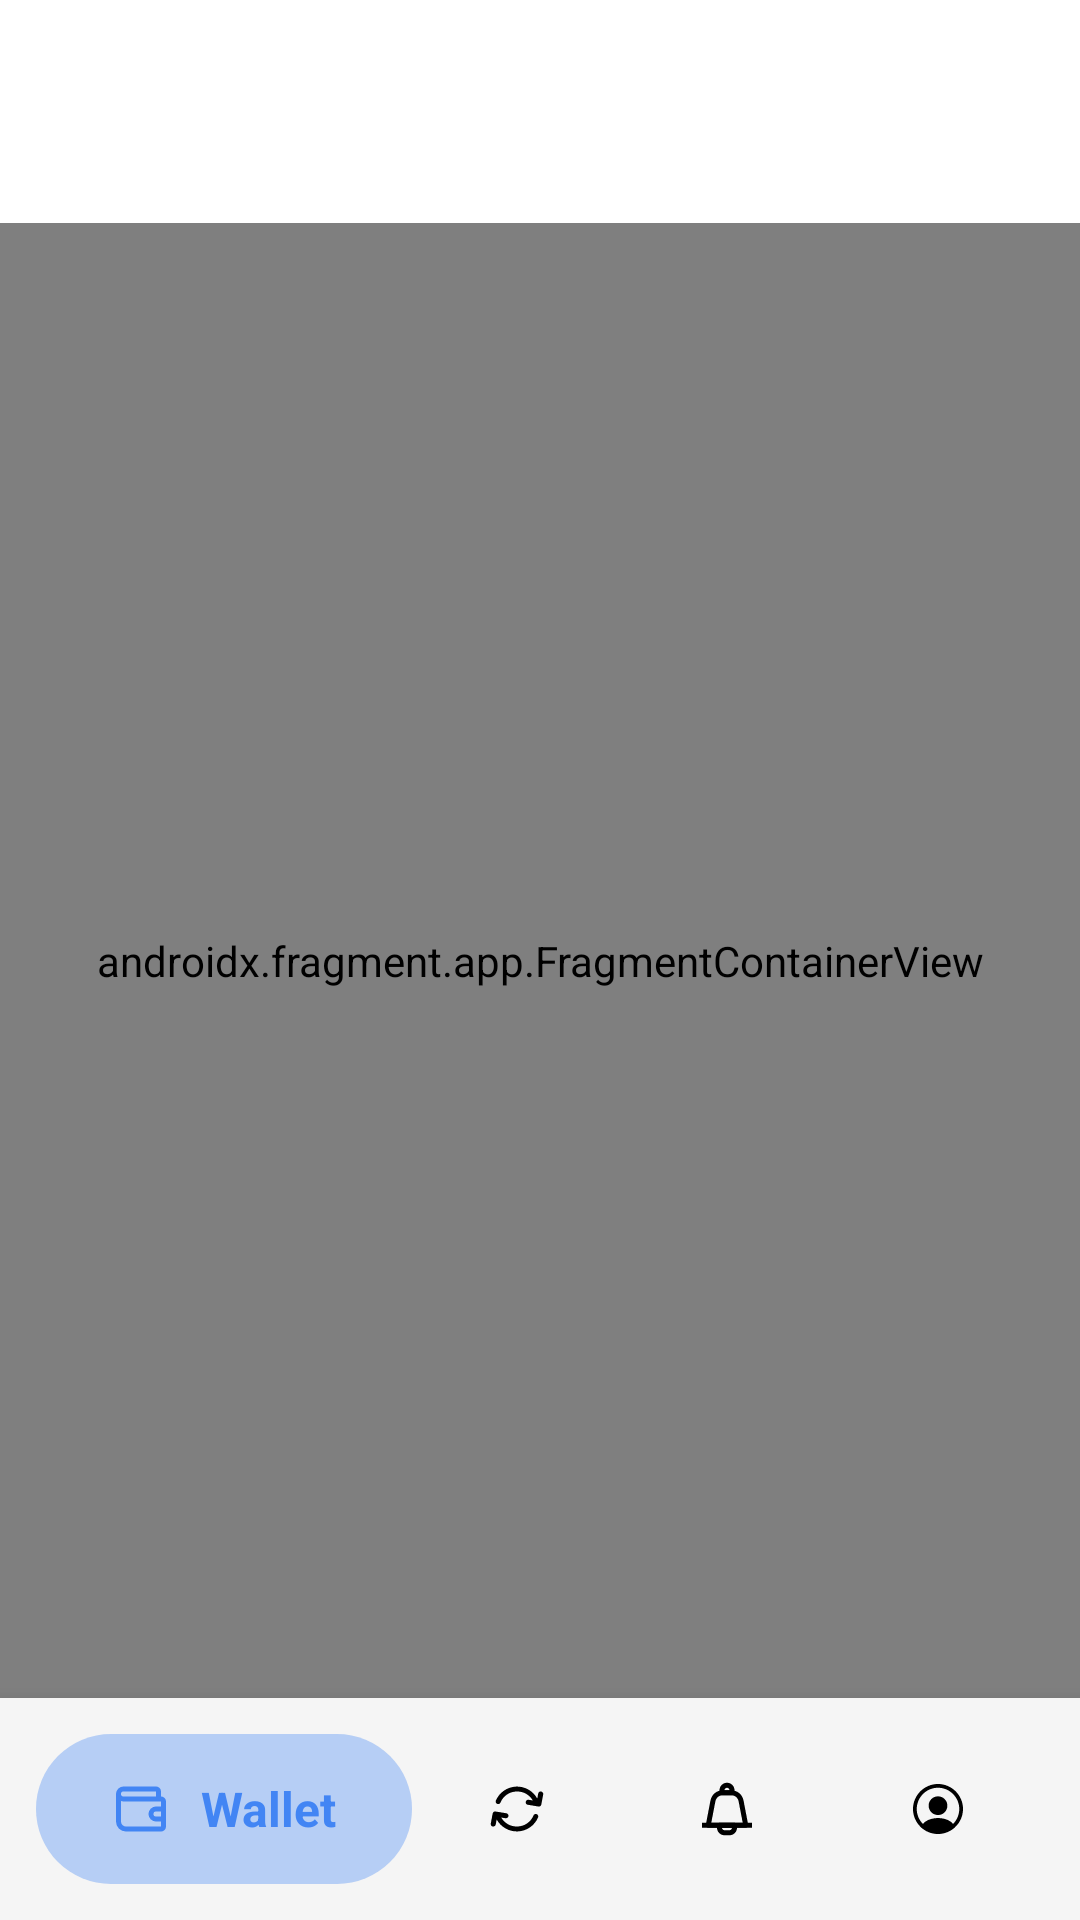

Screen size 1080 x 1920. Icon name, then its center in pixels as (x=x, y=y):
notifications: (x=727, y=1809)
profile: (x=938, y=1809)
swap: (x=517, y=1809)
